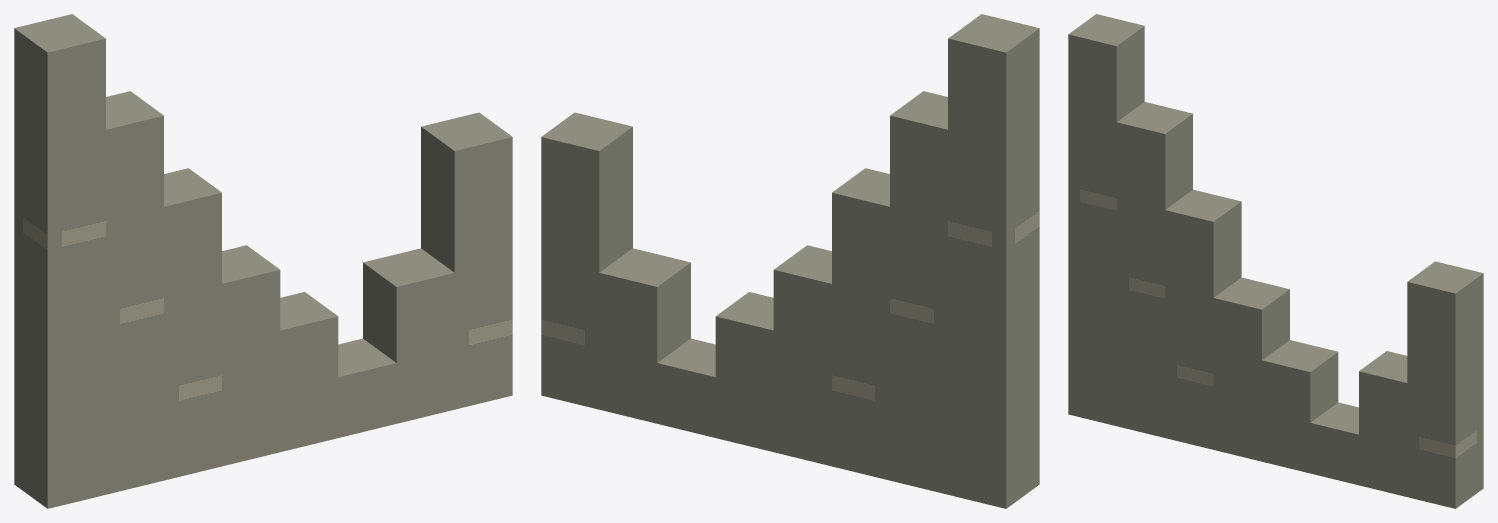
Rendered from wall_plaster_broken.gltf.
The picture shows the model from 3 angles, left to right: view 1: azimuth 30°, elevation 25°; view 2: azimuth 150°, elevation 25°; view 3: azimuth 330°, elevation 25°; orthographic projection. The views are drawn at different scales.
Visible parts, largest first — view 1: broken_masonry (×8); view 2: broken_masonry (×8); view 3: broken_masonry (×8).
Part boxes in pixels (left/top/right/bottom): broken_masonry (×8): left=14, top=14, right=512, bottom=508; broken_masonry (×8): left=541, top=14, right=1039, bottom=508; broken_masonry (×8): left=1068, top=14, right=1483, bottom=508.
Size of the model in its own units: 2 by 1.88 by 0.25.
1 material, 1 textured.
